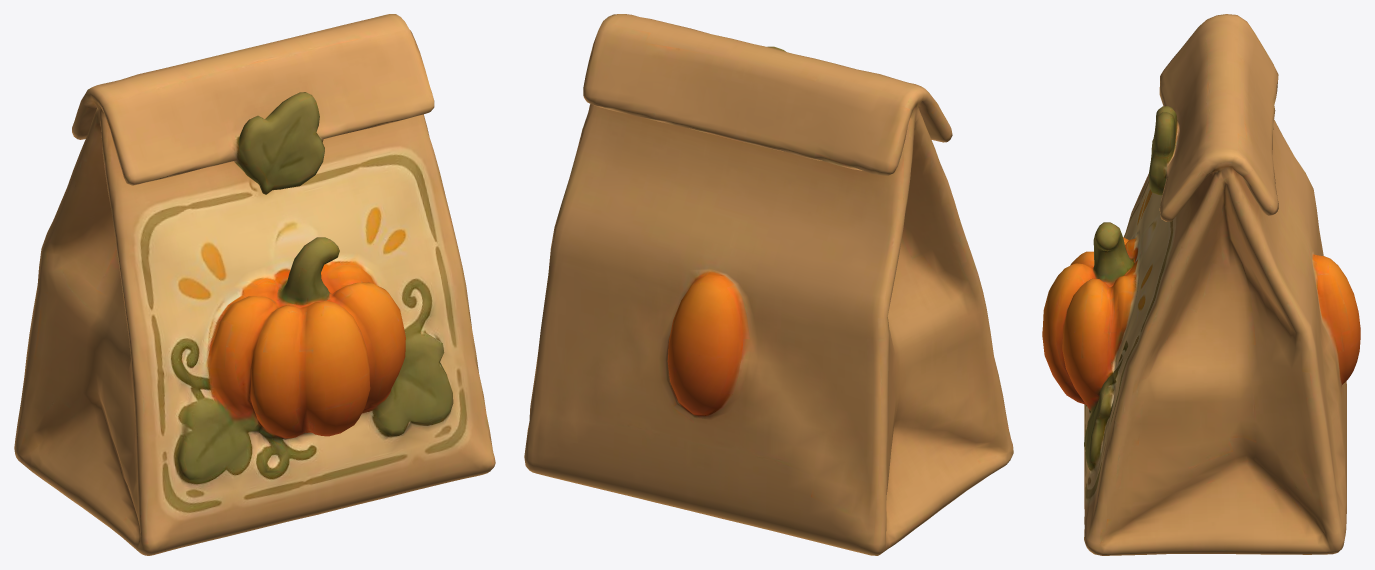
3 views of the same model, side by side, from view 1: azimuth 30°, elevation 25°; view 2: azimuth 150°, elevation 25°; view 3: azimuth 270°, elevation 25° (orthographic). The views are drawn at different scales.
Parts seen in each view (by area): view 1: seed-pumpkin; view 2: seed-pumpkin; view 3: seed-pumpkin.
Boxes of the visible parts, x1,y1,x2,y2 form: seed-pumpkin: [14, 14, 495, 555]; seed-pumpkin: [524, 14, 1013, 555]; seed-pumpkin: [1042, 14, 1360, 555].
Size of the model in its own units: 0.1334 by 0.15 by 0.1094.
1 material, 1 textured.
